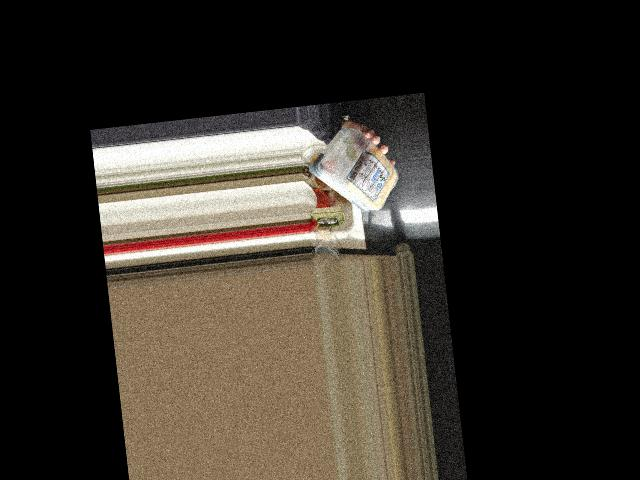cheese: (317, 122, 396, 217)
